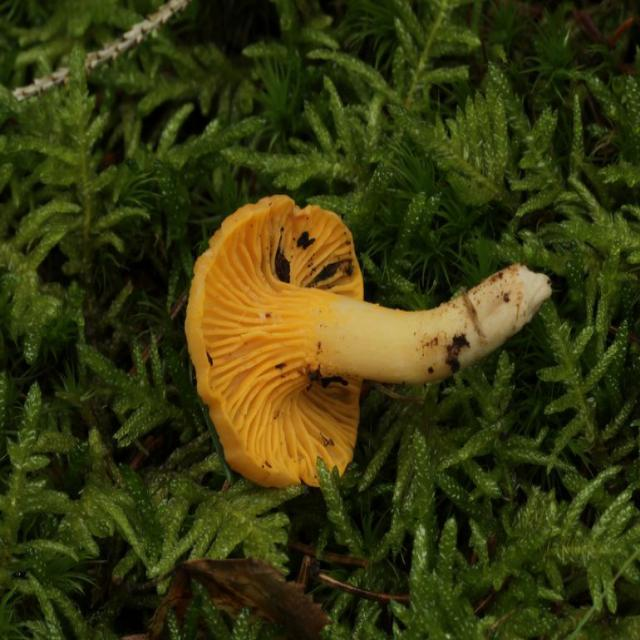Cantharellus cibarius: (186, 192, 553, 487)
